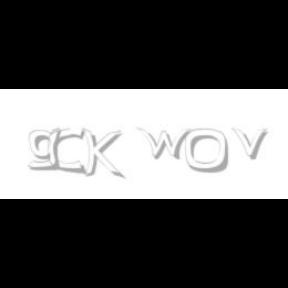C: (48, 128, 84, 174)
K: (82, 128, 122, 180)
O: (184, 128, 230, 174)
g: (29, 128, 66, 171)
v: (231, 128, 271, 160)
w: (136, 128, 196, 160)
